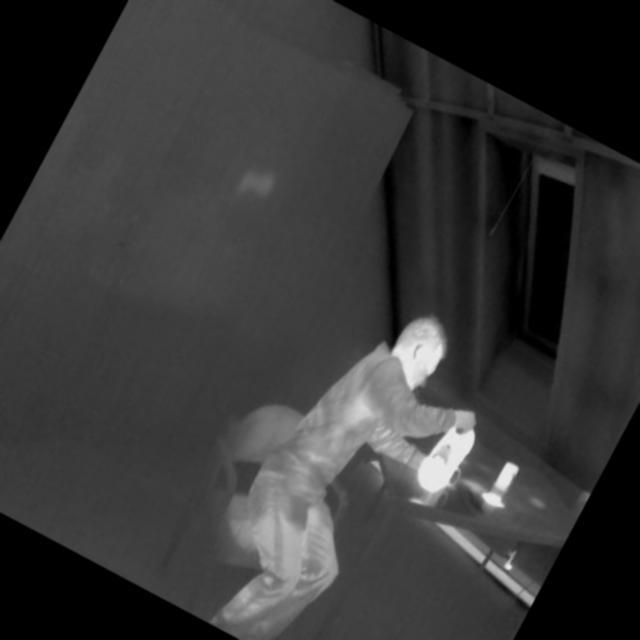person: (165, 262, 513, 640)
